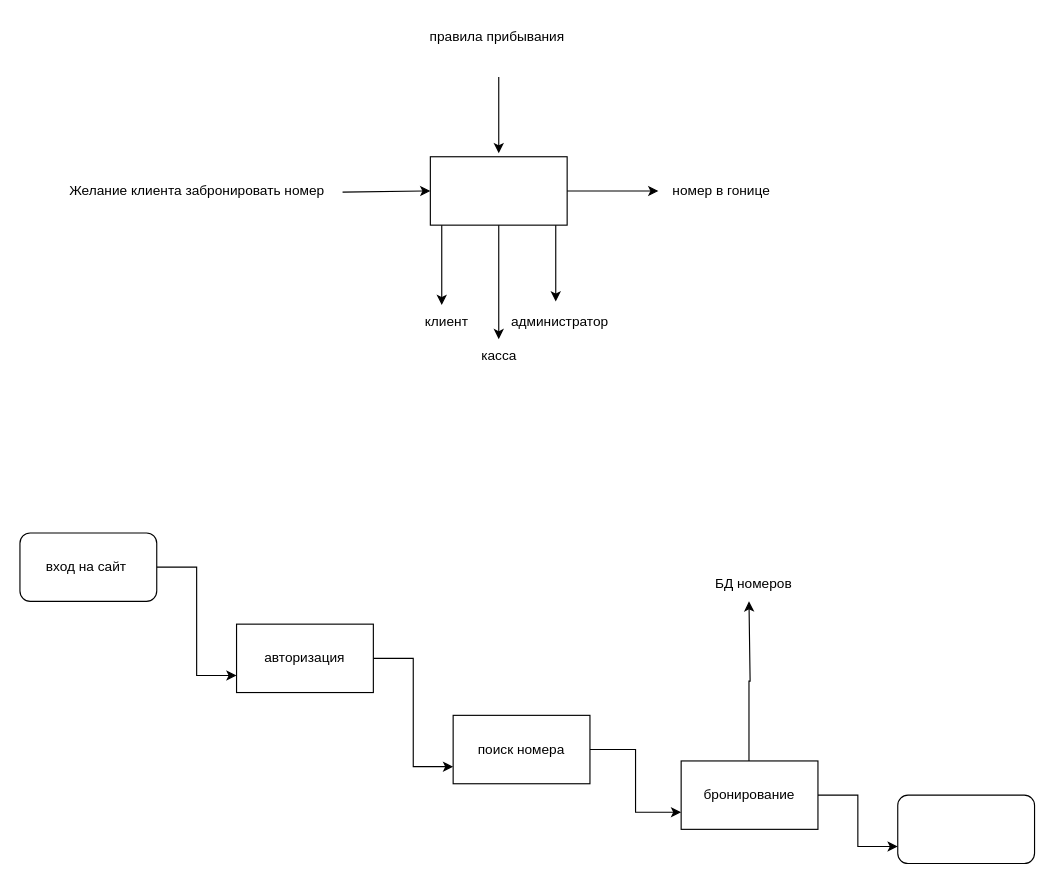
Image size: 1055x884. Some labels were removed from this diagram. Each missing label, with the centre of its shape:
бронирование номера в гостинице: point 498,190
номер в гостинице: point 966,829
